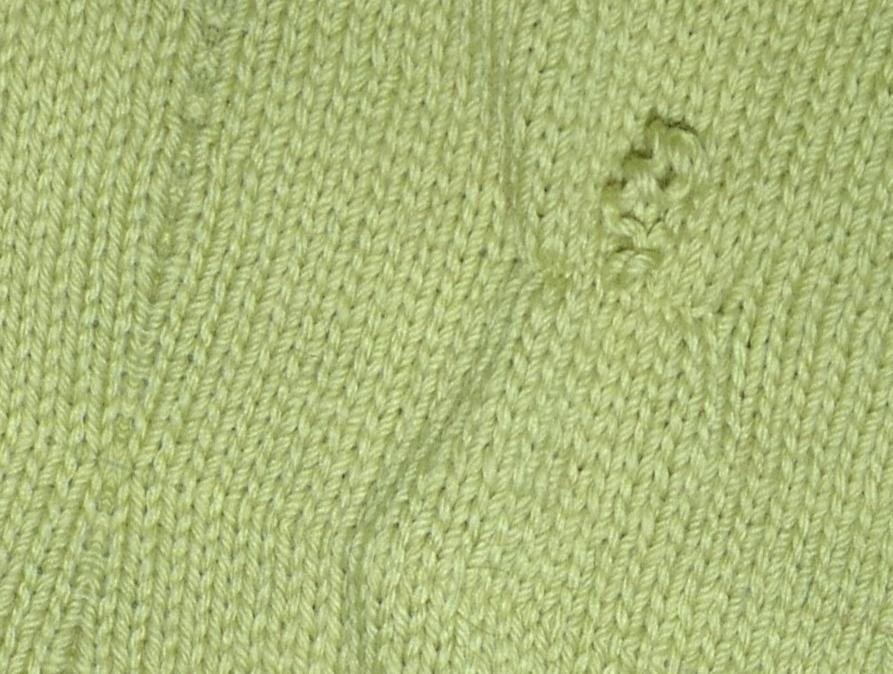knot: (601, 109, 708, 302)
